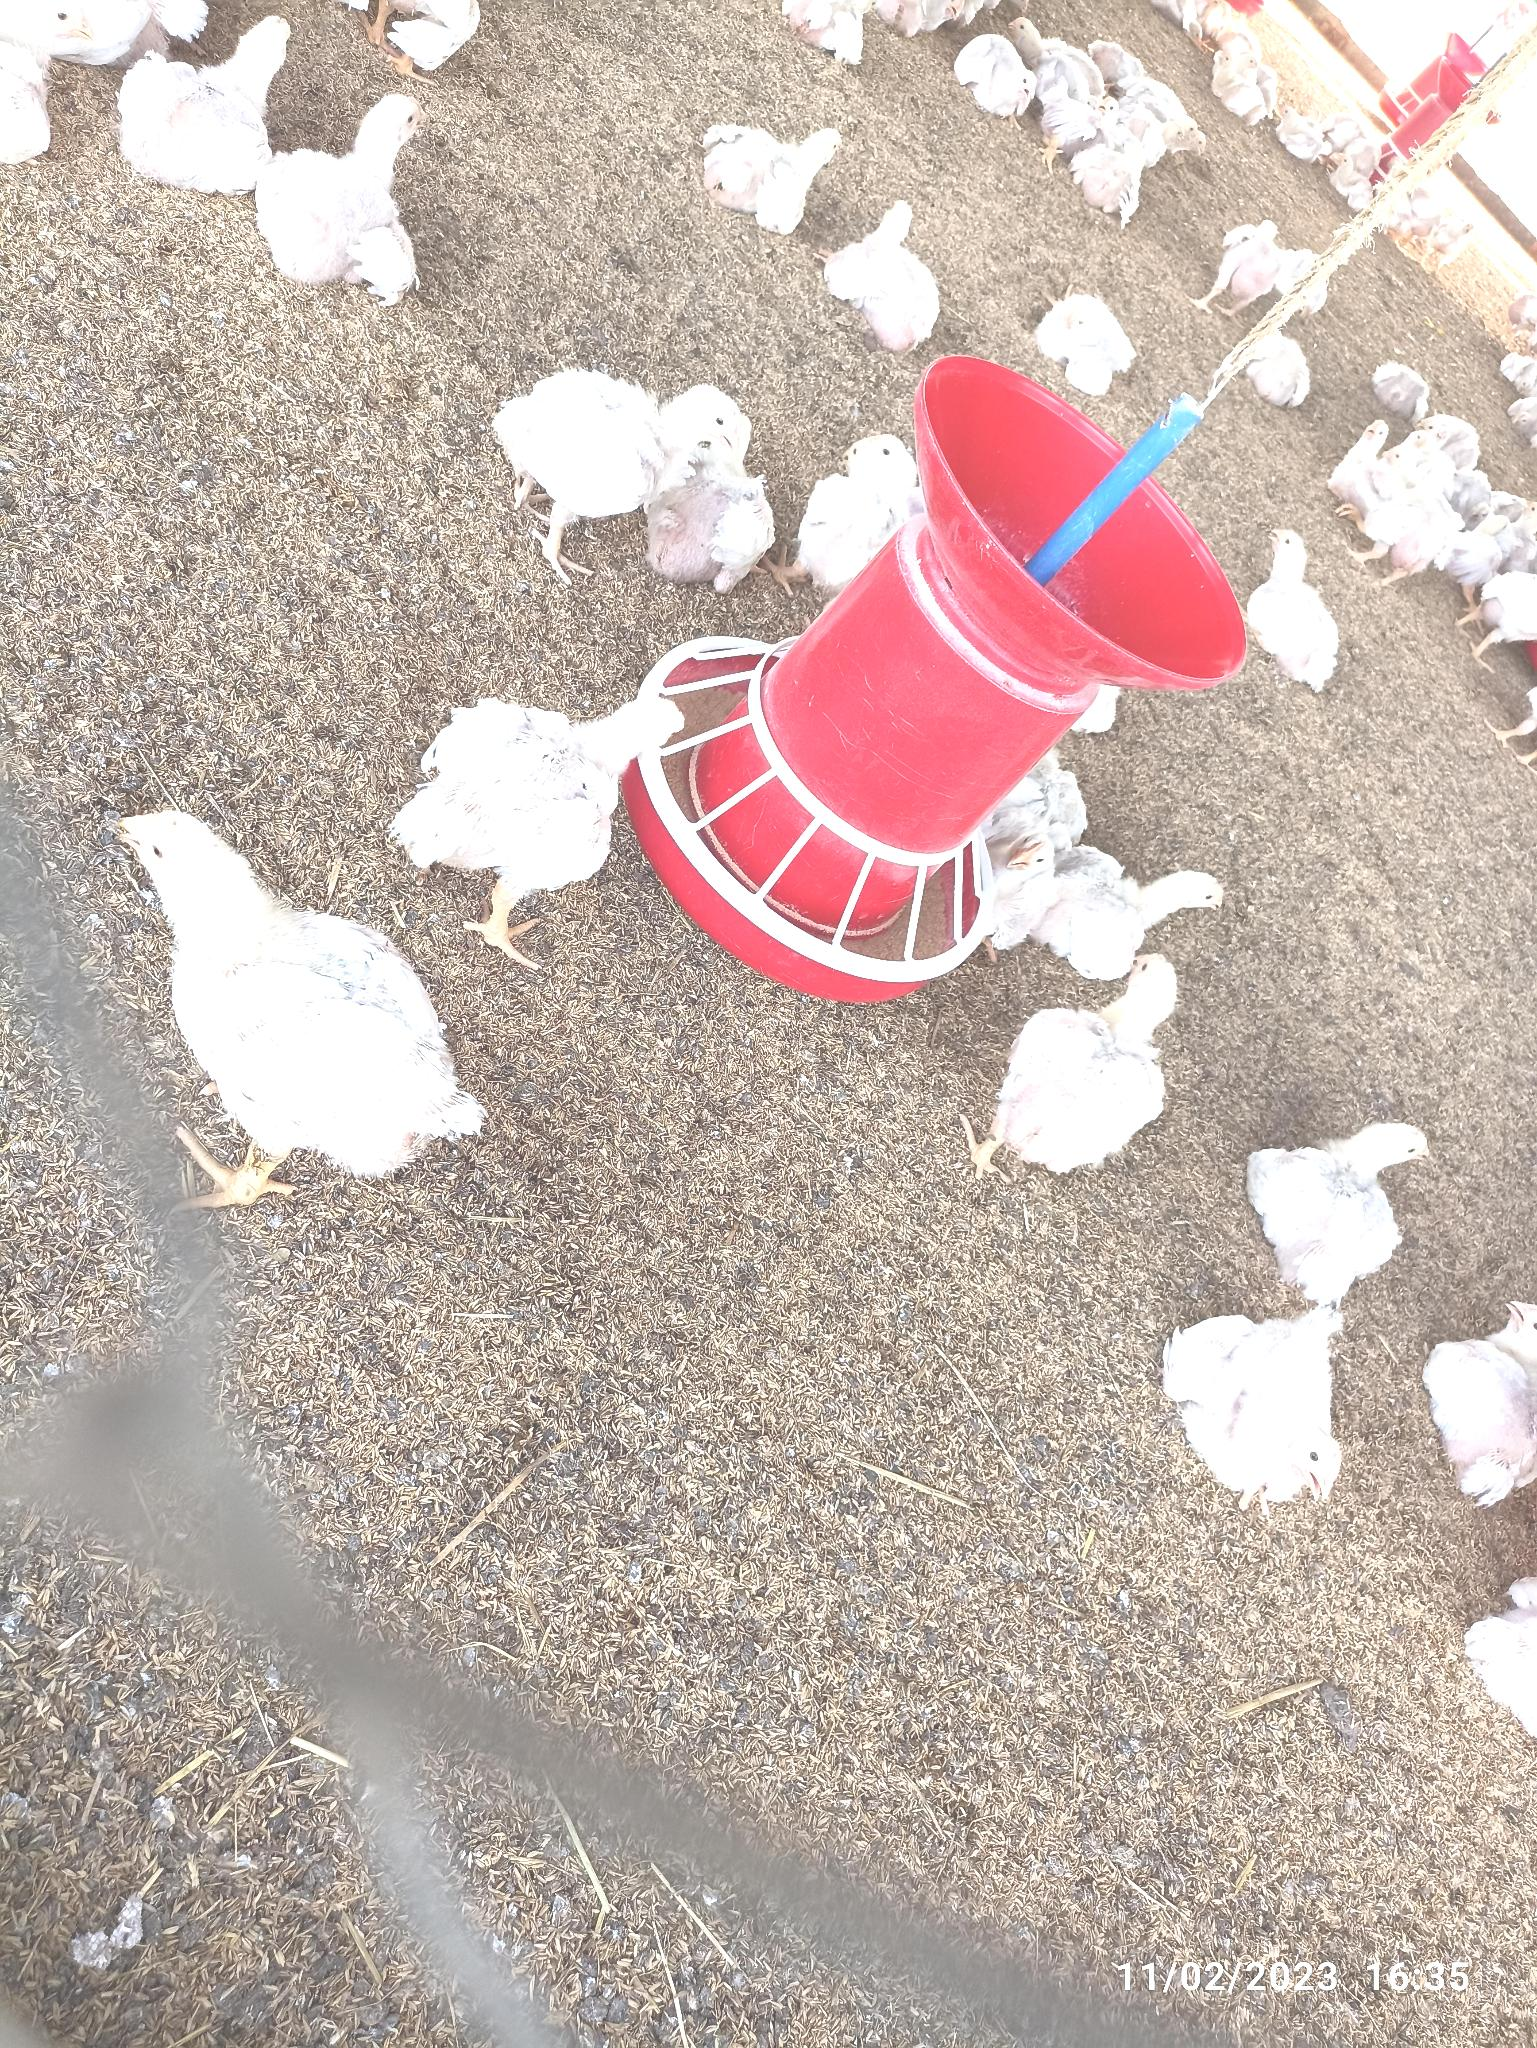Pollos: (90, 797, 475, 1193), (483, 370, 768, 591), (421, 683, 693, 888), (986, 946, 1190, 1165), (1158, 1307, 1361, 1520), (263, 89, 433, 305), (1248, 1109, 1442, 1296), (116, 18, 310, 187), (827, 192, 953, 345), (1238, 523, 1351, 689), (685, 108, 843, 224), (1321, 407, 1414, 523), (1037, 282, 1133, 392), (1204, 210, 1300, 307), (1066, 136, 1156, 237), (953, 21, 1043, 115)
